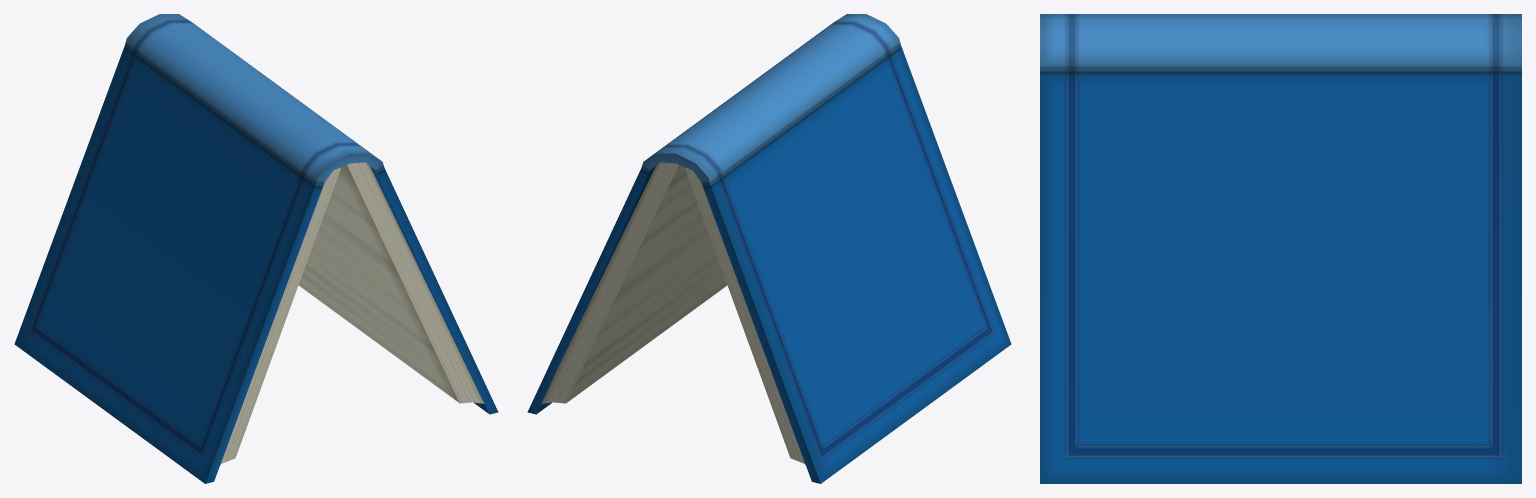
File: book_open.FBX
3 renders of one model, left to right at view 1: azimuth 30°, elevation 25°; view 2: azimuth 150°, elevation 25°; view 3: azimuth 270°, elevation 25°, orthographic. The views are drawn at different scales.
Visible parts, largest first — view 1: BOOK_OPEN; view 2: BOOK_OPEN; view 3: BOOK_OPEN.
Part boxes in pixels (x1,y1,x2,y2): BOOK_OPEN: [14, 14, 498, 483]; BOOK_OPEN: [527, 14, 1011, 483]; BOOK_OPEN: [1040, 14, 1521, 483].
Bounding box in the file's own units: 5.27 × 5.06 × 5.94.
